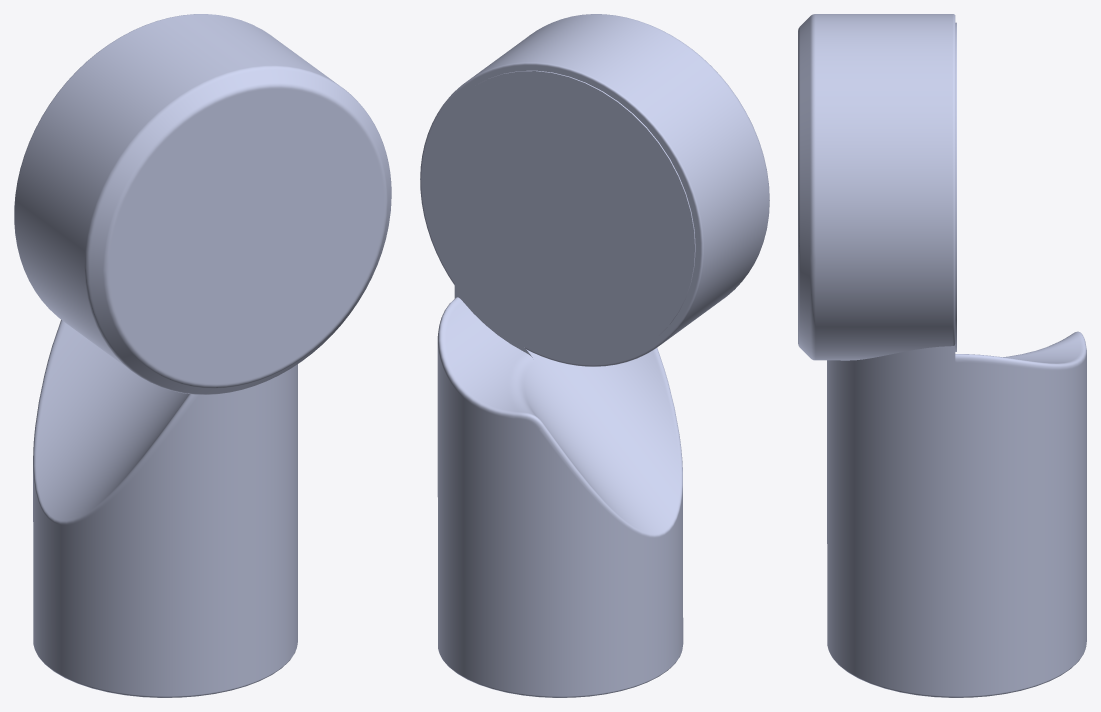
File: Link_Arm_2.obj
3 views of the same model, side by side, from view 1: azimuth 30°, elevation 25°; view 2: azimuth 150°, elevation 25°; view 3: azimuth 270°, elevation 25° (orthographic). The views are drawn at different scales.
Parts seen in each view (by area): view 1: Body1; view 2: Body1; view 3: Body1.
Part boxes in pixels (left/top/right/bottom): Body1: left=14, top=14, right=391, bottom=697; Body1: left=420, top=14, right=769, bottom=697; Body1: left=798, top=14, right=1086, bottom=697.
Size of the model in its own units: 12 by 23.5 by 10.
